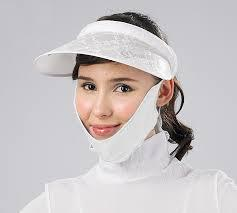WRONG: (75, 73, 152, 153)
